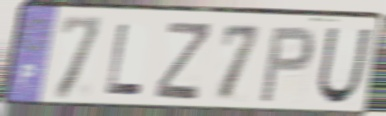7: (56, 13, 107, 104), (218, 22, 260, 105)
L: (103, 22, 145, 99)
P: (257, 24, 317, 105)
U: (314, 25, 374, 107)
Z: (152, 20, 214, 104)
